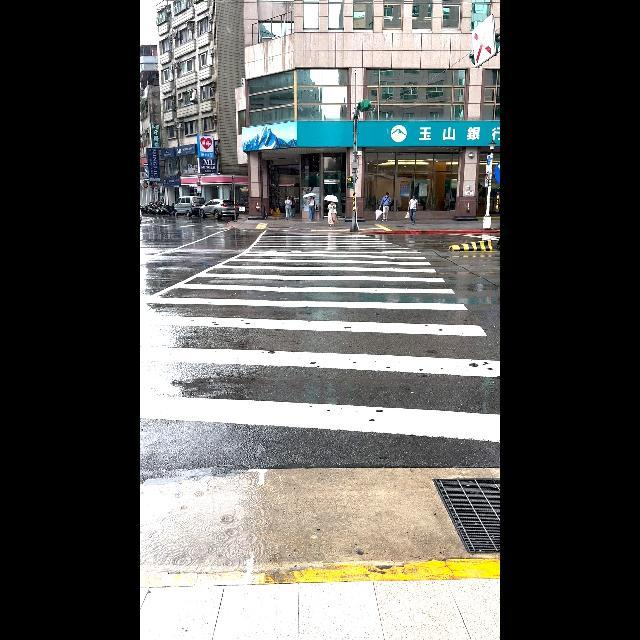sidewalk: (142, 228, 500, 439)
